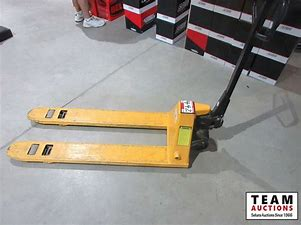Pallet Jack: (6, 1, 292, 170)
